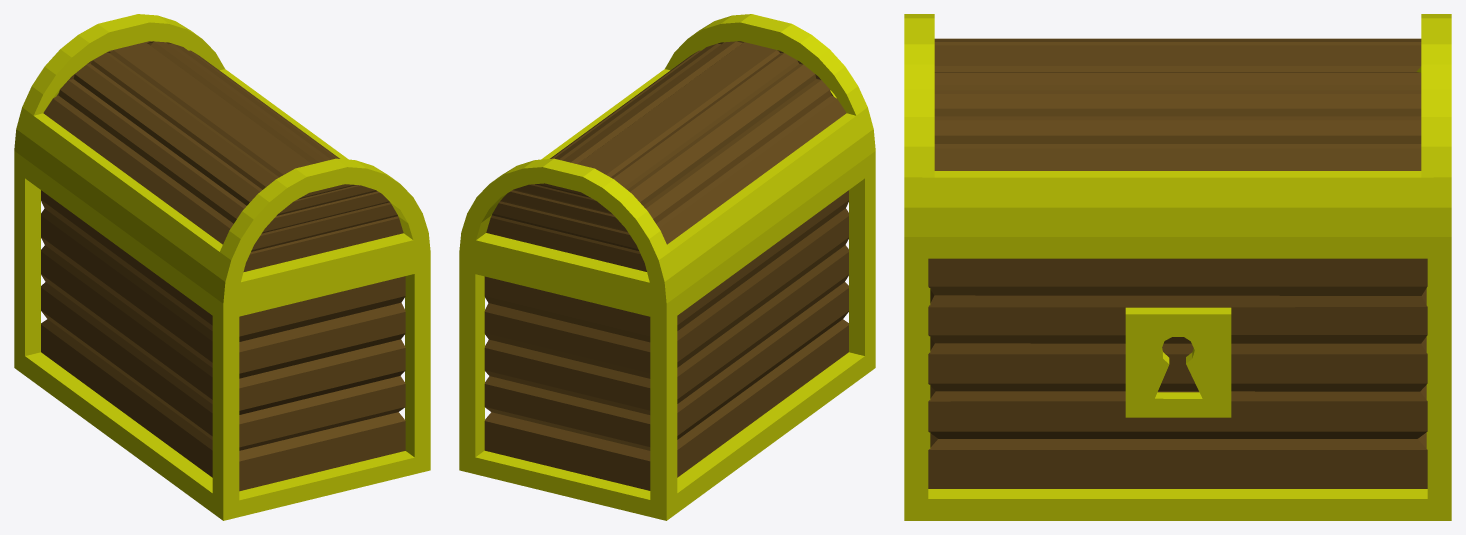
The model's file is CofreTerminado.fbx.
3 renders of one model, left to right at view 1: azimuth 30°, elevation 25°; view 2: azimuth 150°, elevation 25°; view 3: azimuth 270°, elevation 25°, orthographic. The views are drawn at different scales.
Visible parts, largest first — view 1: Cylinder.001, Cylinder; view 2: Cylinder.001, Cylinder; view 3: Cylinder.001, Cylinder, Plane.
Boxes of the visible parts, x1,y1,x2,y2 form: Cylinder.001: (41,41,405,491); Cylinder: (14,14,430,520); Cylinder.001: (484,41,848,490); Cylinder: (459,14,875,520); Cylinder.001: (928,38,1427,488); Cylinder: (904,14,1451,520); Plane: (1125,307,1231,417).
Bounding box in the file's own units: 200 × 298 × 349.
